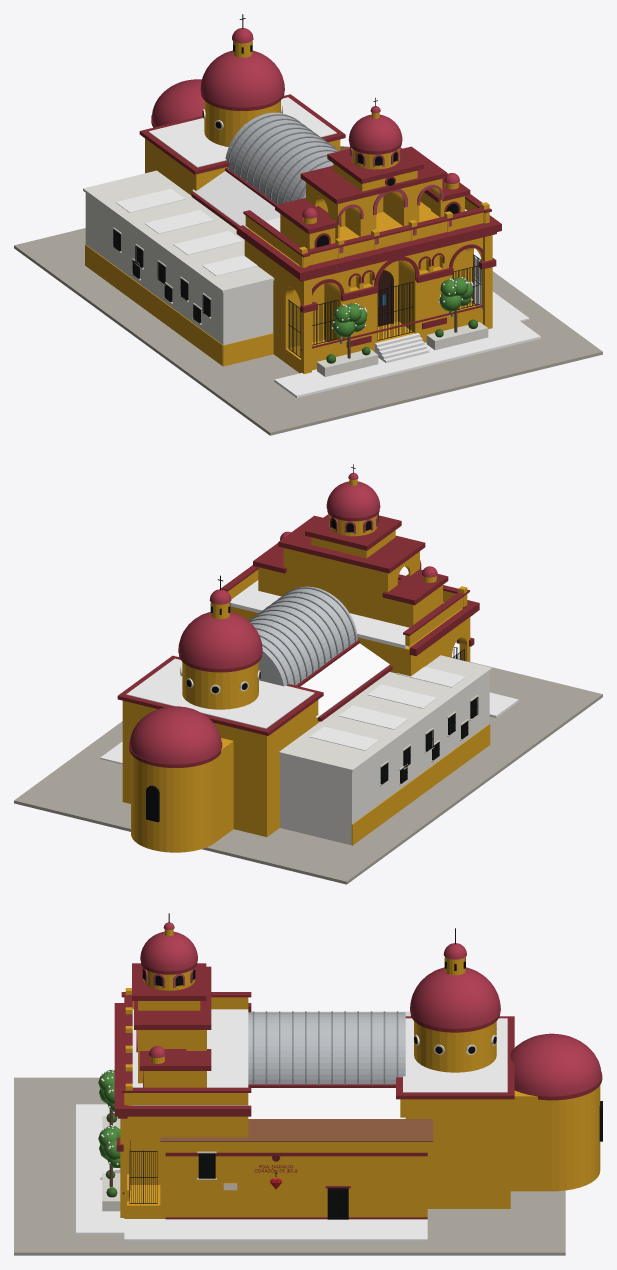
Rendered from parroquia-sagrado-jesus.glb.
3 views of the same model, one above another, from view 1: azimuth 30°, elevation 25°; view 2: azimuth 150°, elevation 25°; view 3: azimuth 270°, elevation 25° (orthographic). The views are drawn at different scales.
Visible parts, largest first — view 1: Anden, Frente_cuerpo, Anexo izq, Anexo izq remate, Boveda nave, Apron frontal ladrillo, Campanario, Cupula principal, Anexo izq base amarilla, Techo transepto, Cornisa 1, Cornisa campanario (+30 smaller); view 2: Anden, Anexo izq, Transepto, Anexo izq remate, Abside, Boveda nave, Campanario, Cupula abside, Techo transepto, Cupula principal, Anexo izq base amarilla, Techo nave lateral (+19 smaller); view 3: Anden, Anexo der, Boveda nave, Transepto, Frente_cuerpo, Plaza lateral derecha, Techo anexo der, Cupula abside, Techo nave lateral.001, Abside, Cupula principal, Presbiterio (+28 smaller).
Boxes of the visible parts, left/top/right/bottom form: Anden: left=14, top=228, right=602, bottom=435; Frente_cuerpo: left=244, top=228, right=482, bottom=373; Anexo izq: left=85, top=193, right=273, bottom=345; Anexo izq remate: left=83, top=170, right=274, bottom=292; Boveda nave: left=225, top=112, right=338, bottom=204; Apron frontal ladrillo: left=274, top=320, right=540, bottom=397; Campanario: left=306, top=179, right=442, bottom=240; Cupula principal: left=200, top=50, right=284, bottom=107; Anexo izq base amarilla: left=85, top=244, right=223, bottom=366; Techo transepto: left=148, top=97, right=336, bottom=167; Cornisa 1: left=293, top=219, right=501, bottom=279; Cornisa campanario: left=300, top=146, right=447, bottom=204; Anden: left=14, top=657, right=602, bottom=884; Anexo izq: left=280, top=672, right=489, bottom=845; Transepto: left=122, top=700, right=318, bottom=836; Anexo izq remate: left=279, top=655, right=492, bottom=772; Abside: left=131, top=754, right=214, bottom=852; Boveda nave: left=250, top=586, right=357, bottom=686; Campanario: left=283, top=548, right=419, bottom=622; Cupula abside: left=129, top=706, right=221, bottom=764; Techo transepto: left=126, top=658, right=314, bottom=728; Cupula principal: left=178, top=612, right=262, bottom=668; Anexo izq base amarilla: left=351, top=724, right=490, bottom=845; Techo nave lateral: left=300, top=643, right=389, bottom=718; Anden: left=14, top=1077, right=565, bottom=1255; Anexo der: left=165, top=1142, right=427, bottom=1217; Boveda nave: left=248, top=1012, right=405, bottom=1084; Transepto: left=400, top=1099, right=510, bottom=1208; Frente_cuerpo: left=124, top=1105, right=248, bottom=1218; Plaza lateral derecha: left=124, top=1219, right=427, bottom=1240; Techo anexo der: left=160, top=1119, right=433, bottom=1141; Cupula abside: left=510, top=1033, right=601, bottom=1096; Techo nave lateral.001: left=248, top=1088, right=405, bottom=1118; Abside: left=552, top=1085, right=600, bottom=1191; Cupula principal: left=410, top=967, right=500, bottom=1028; Presbiterio: left=510, top=1090, right=551, bottom=1191.
Size of what is drawn, in the model's own units: 30 by 20.85 by 42.7.
